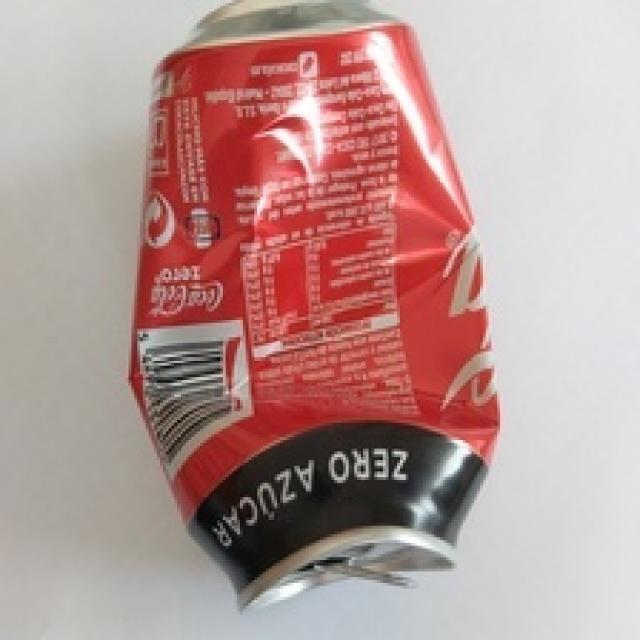recyclable: (125, 0, 500, 614)
